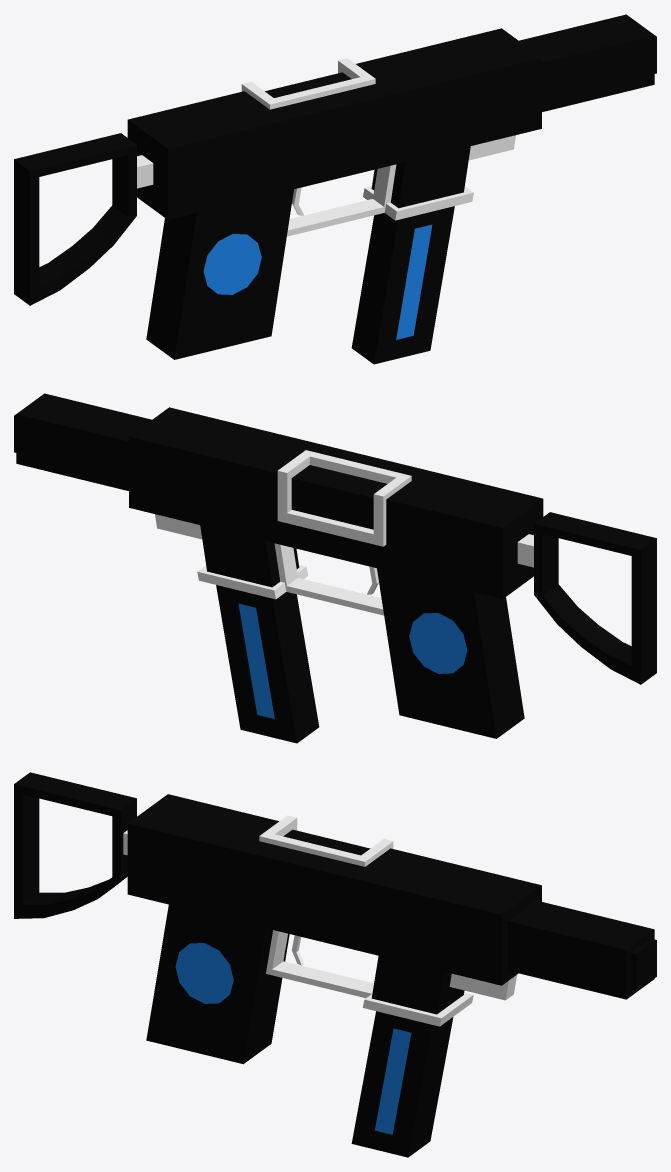
File: Test_SubmachineGun.fbx
3 views of the same model, one above another, from view 1: azimuth 30°, elevation 25°; view 2: azimuth 150°, elevation 25°; view 3: azimuth 330°, elevation 25° (orthographic).
Visible parts, largest first — view 1: SubmachineGun, SubmachineGunReload2, SubmachineGunReload; view 2: SubmachineGun, SubmachineGunReload2, SubmachineGunReload; view 3: SubmachineGun, SubmachineGunReload2, SubmachineGunReload.
Boxes of the visible parts, <box> form: SubmachineGun: <box>14,28,656,364</box>; SubmachineGunReload2: <box>519,14,654,111</box>; SubmachineGunReload: <box>265,72,351,97</box>; SubmachineGun: <box>14,407,656,743</box>; SubmachineGunReload2: <box>16,393,151,490</box>; SubmachineGunReload: <box>291,465,387,529</box>; SubmachineGun: <box>14,772,656,1157</box>; SubmachineGunReload2: <box>507,900,654,999</box>; SubmachineGunReload: <box>283,829,370,855</box>.
Size of the model in its own units: 129 by 54.98 by 15.36.
